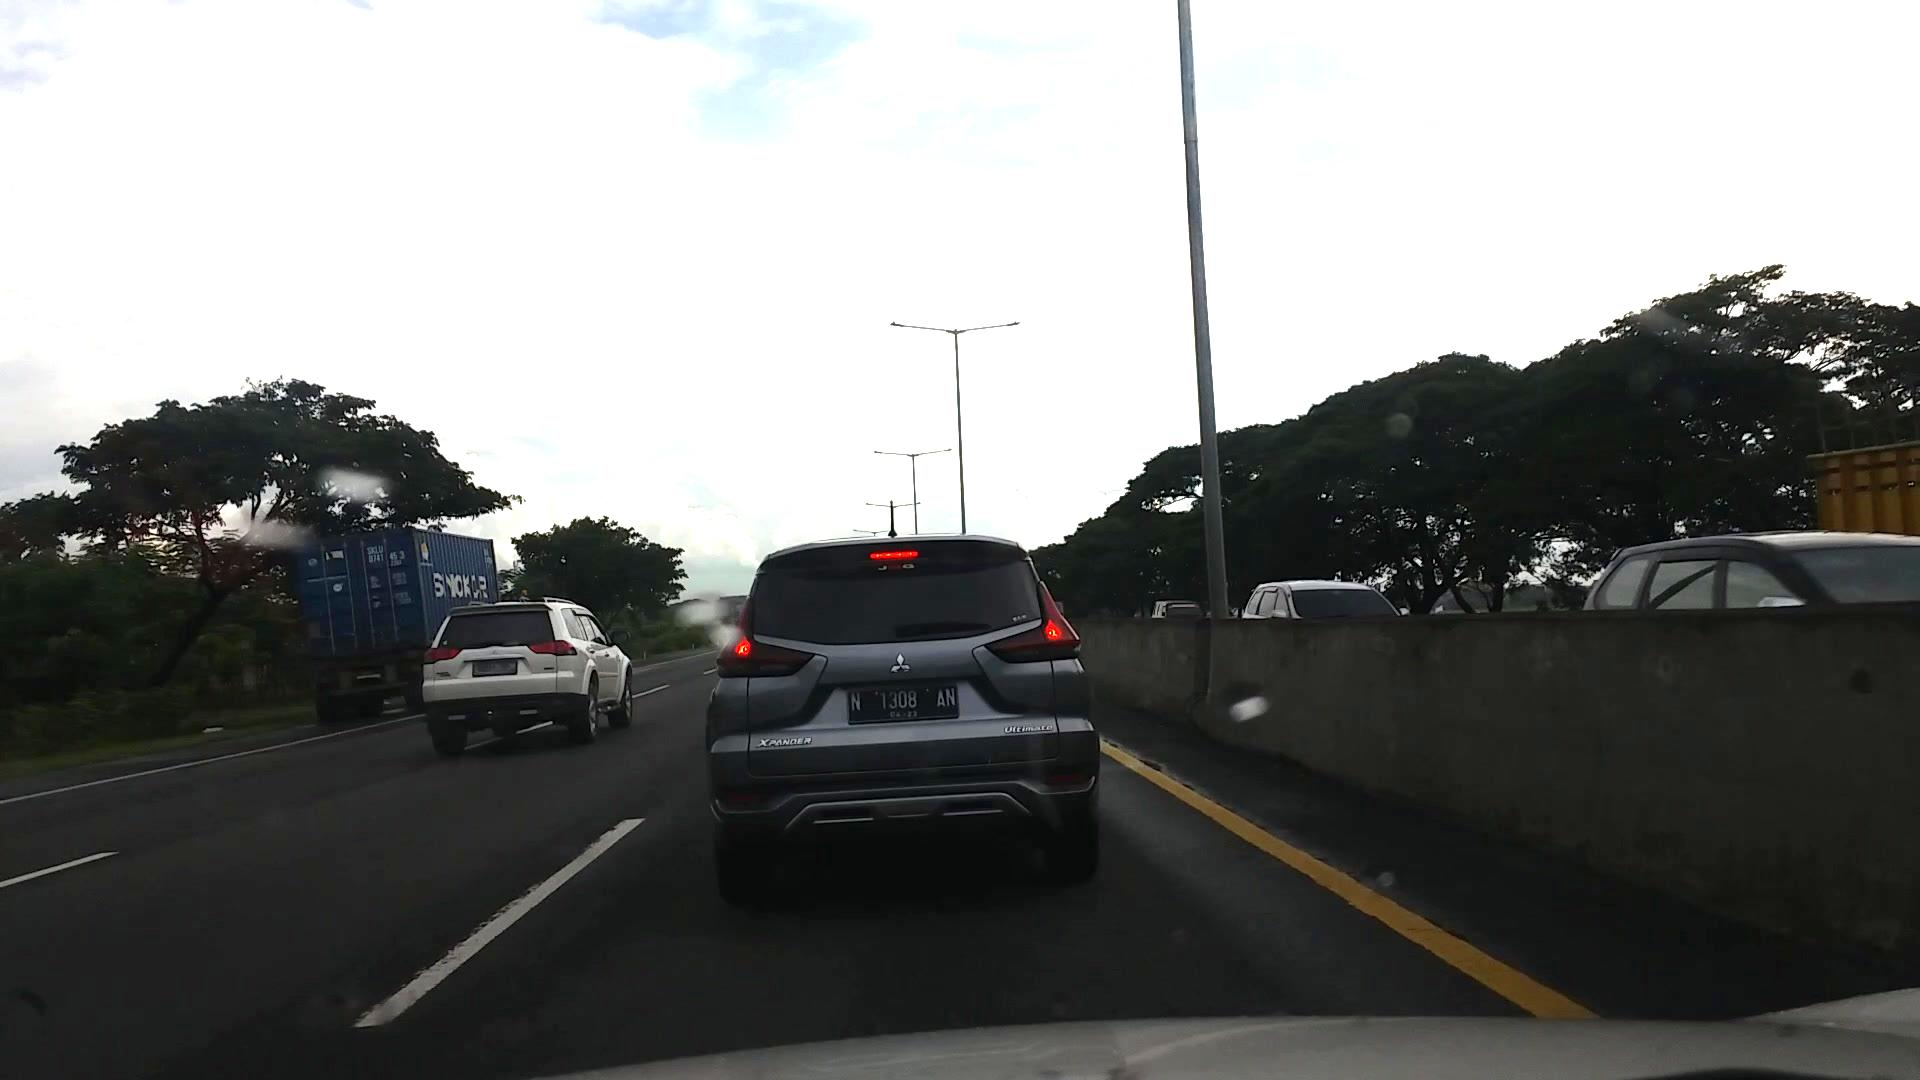plate_positive: (848, 684, 959, 723)
